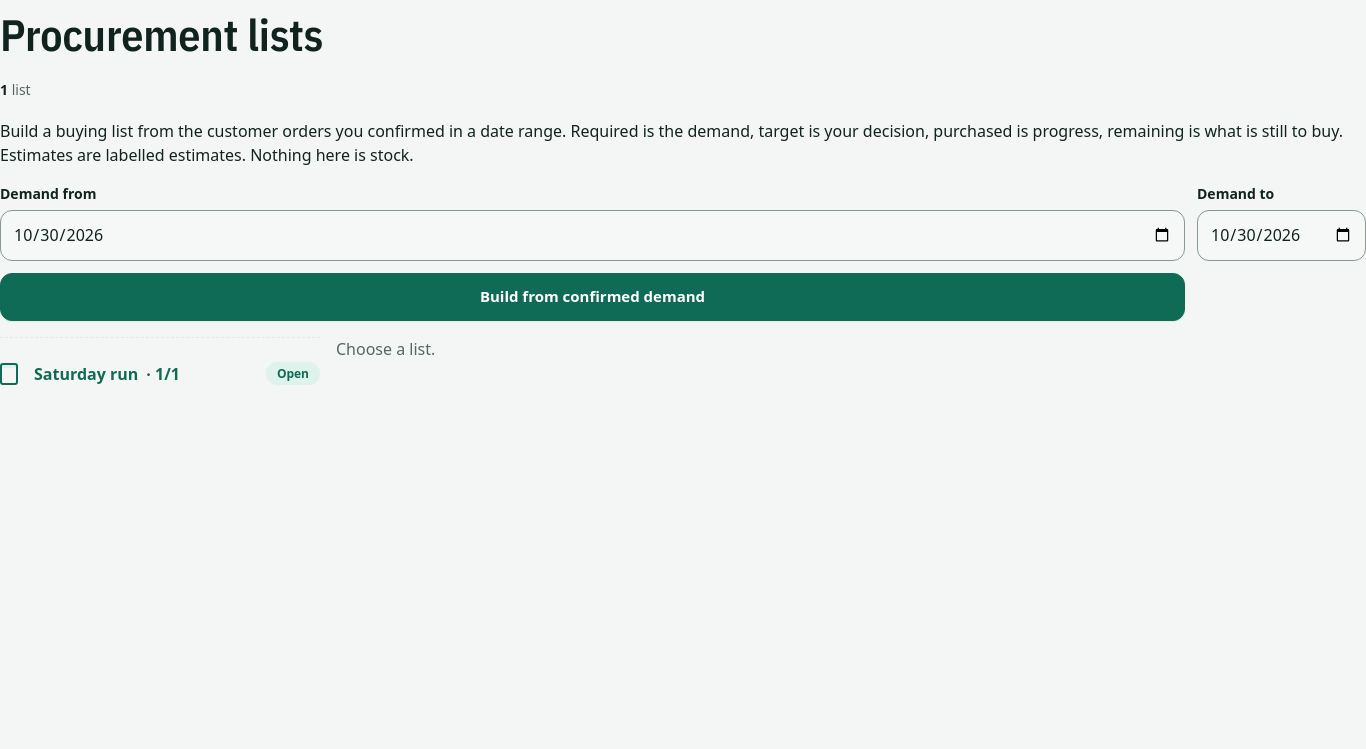
Test: the lines scroll in a labelled region, and a saved target shows the server's value so moving past it sends nothing
Click the button "Saturday run · 1/1".
click(90, 374)  # box [0,352,180,396]
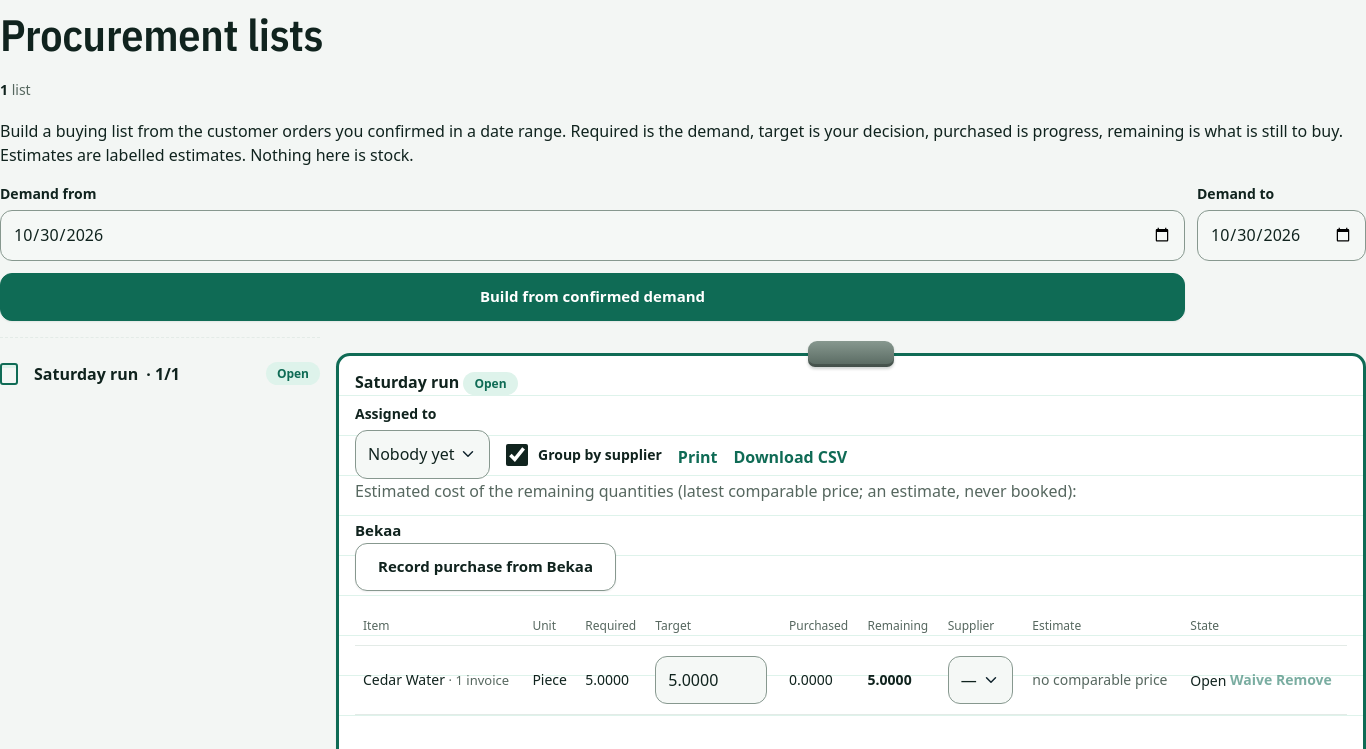
Replace the text in the number field named "Target for Cedar Water" with "8" at (711,680), box [655,656,767,704]
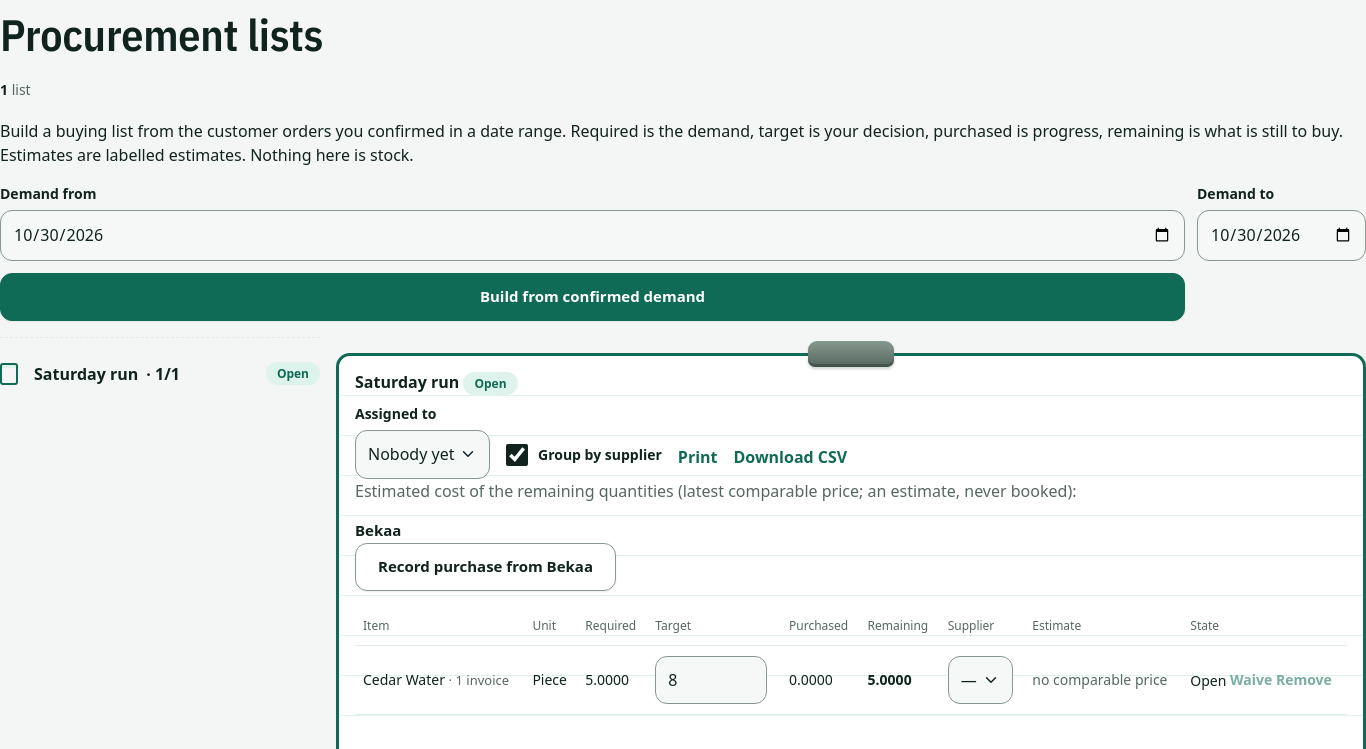
Leave the number field named "Target for Cedar Water", box [655,656,767,704]
(page scrolled)
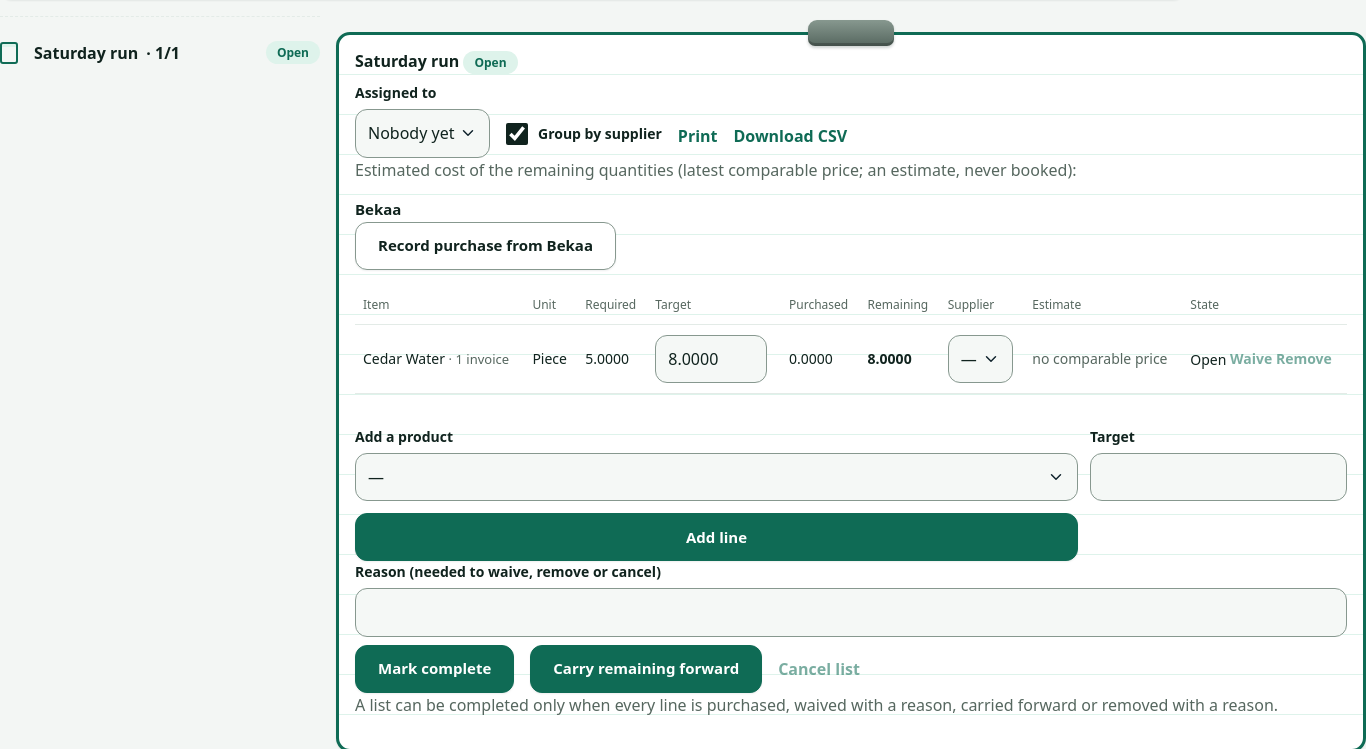
Check: the number field named "Target for Cedar Water" holds "8.0000", box [655,335,767,383]
